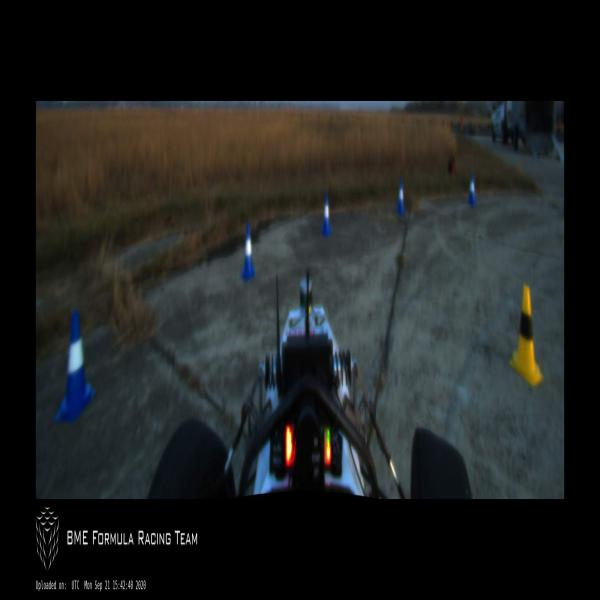blue_cone: (53, 310, 96, 422), (240, 221, 256, 281), (320, 192, 332, 236), (397, 178, 406, 215), (468, 174, 478, 207)
yellow_cone: (508, 283, 544, 389)
